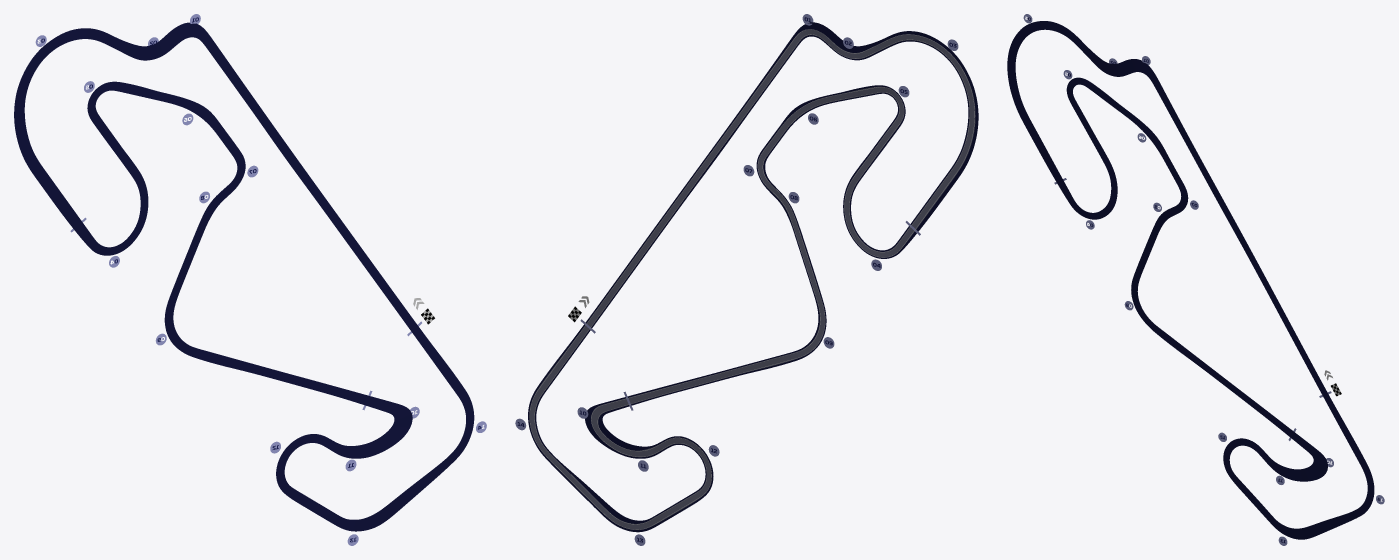
File: barcelona.glb
The picture shows the model from 3 angles, left to right: view 1: azimuth 30°, elevation 25°; view 2: azimuth 150°, elevation 25°; view 3: azimuth 330°, elevation 25°; orthographic projection. The views are drawn at different scales.
Visible parts, largest first — view 1: RUNOFF; view 2: ROAD, RUNOFF, WHITELINES; view 3: RUNOFF.
Part boxes in pixels (<box>): RUNOFF: <box>14,22,474,531</box>; ROAD: <box>529,29,975,529</box>; RUNOFF: <box>528,22,978,532</box>; WHITELINES: <box>529,29,974,529</box>; RUNOFF: <box>1007,21,1374,539</box>.
Size of the model in its own units: 1021 by 1219 by 30.66.
